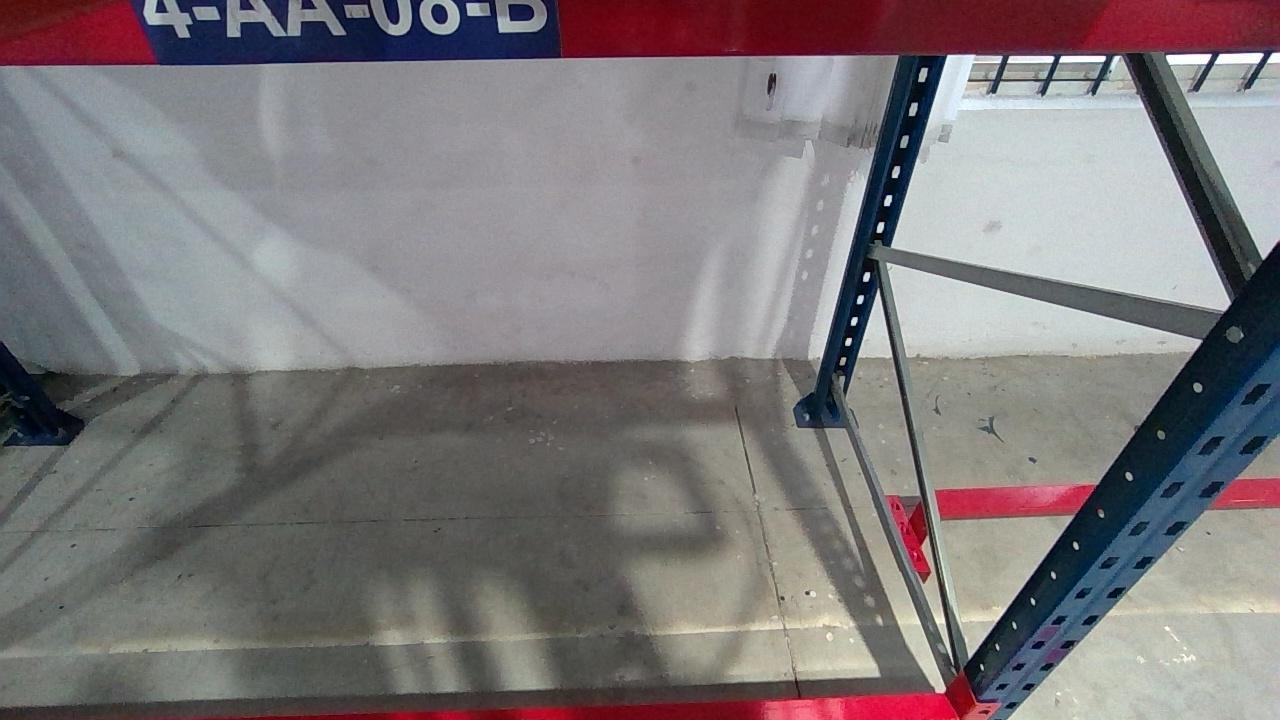h_rack: (0, 0, 1280, 65)
